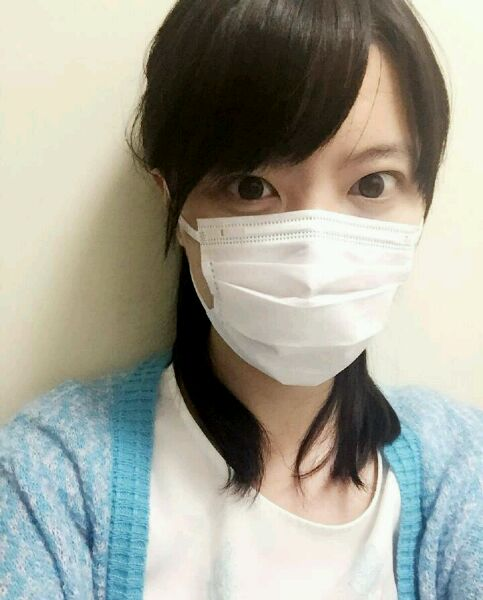face_mask: (195, 60, 423, 381)
